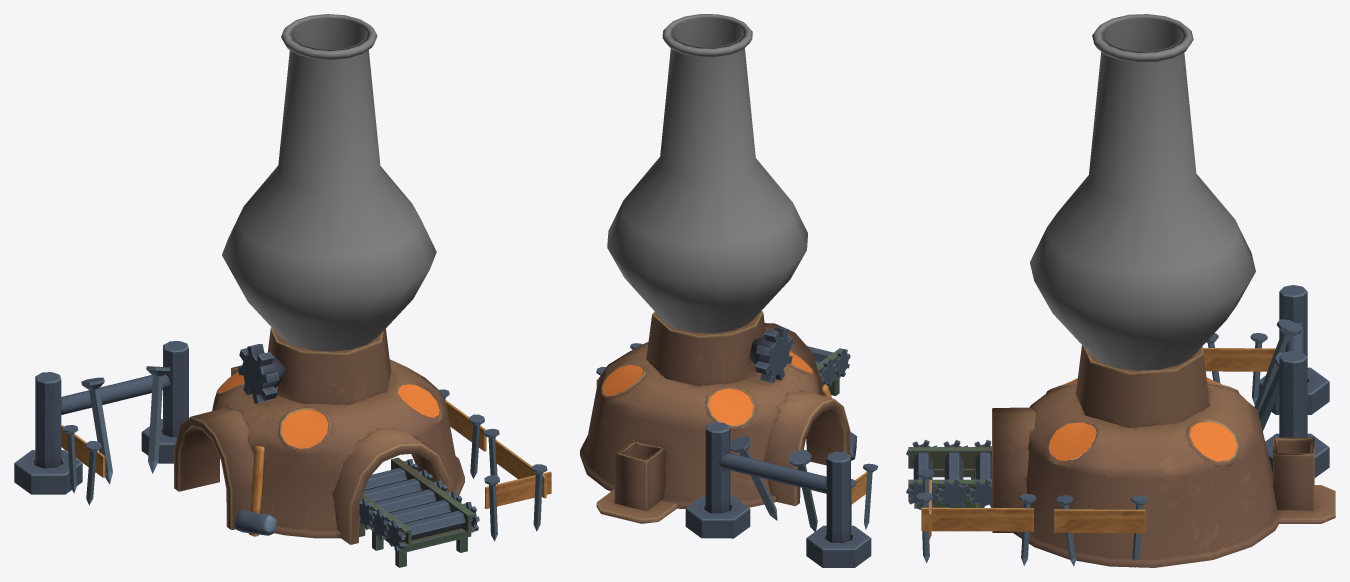
The model's file is meiyoudeng01.fbx.
3 renders of one model, left to right at view 1: azimuth 30°, elevation 25°; view 2: azimuth 150°, elevation 25°; view 3: azimuth 270°, elevation 25°, orthographic. The views are drawn at different scales.
Visible parts, largest first — view 1: meiyoudeng01_boli, meiyoudeng01, meiyoudeng03, meiyoudeng02, meiyoudeng01_zfg, meiyoudeng02_cl01, meiyoudeng02_cl02, meiyoudeng02_cl03, meiyoudeng02_cl04, meiyoudeng02_cl05; view 2: meiyoudeng01_boli, meiyoudeng01, meiyoudeng03, meiyoudeng01_zfg, meiyoudeng02_cl01; view 3: meiyoudeng01_boli, meiyoudeng01, meiyoudeng03, meiyoudeng01_zfg, meiyoudeng02, meiyoudeng02_cl02, meiyoudeng02_cl03, meiyoudeng02_cl01.
Part boxes in pixels (x1=…): meiyoudeng01_boli: x1=222, y1=14, x2=436, y2=351; meiyoudeng01: x1=173, y1=327, x2=464, y2=544; meiyoudeng03: x1=14, y1=341, x2=551, y2=541; meiyoudeng02: x1=359, y1=457, x2=475, y2=567; meiyoudeng01_zfg: x1=218, y1=373, x2=439, y2=448; meiyoudeng02_cl01: x1=386, y1=502, x2=479, y2=550; meiyoudeng02_cl02: x1=371, y1=491, x2=462, y2=540; meiyoudeng02_cl03: x1=359, y1=480, x2=447, y2=529; meiyoudeng02_cl04: x1=359, y1=470, x2=432, y2=516; meiyoudeng02_cl05: x1=364, y1=459, x2=418, y2=490; meiyoudeng01_boli: x1=607, y1=14, x2=807, y2=333; meiyoudeng01: x1=580, y1=311, x2=850, y2=523; meiyoudeng03: x1=596, y1=343, x2=877, y2=567; meiyoudeng01_zfg: x1=603, y1=351, x2=812, y2=425; meiyoudeng02_cl01: x1=807, y1=346, x2=850, y2=378; meiyoudeng01_boli: x1=1030, y1=14, x2=1255, y2=370; meiyoudeng01: x1=992, y1=345, x2=1335, y2=567; meiyoudeng03: x1=916, y1=285, x2=1329, y2=567; meiyoudeng01_zfg: x1=1049, y1=378, x2=1236, y2=461; meiyoudeng02: x1=908, y1=447, x2=1070, y2=508; meiyoudeng02_cl02: x1=937, y1=439, x2=970, y2=507; meiyoudeng02_cl03: x1=968, y1=439, x2=992, y2=507; meiyoudeng02_cl01: x1=906, y1=439, x2=939, y2=509.
Size of the model in its own units: 59.42 by 71.65 by 58.58.
